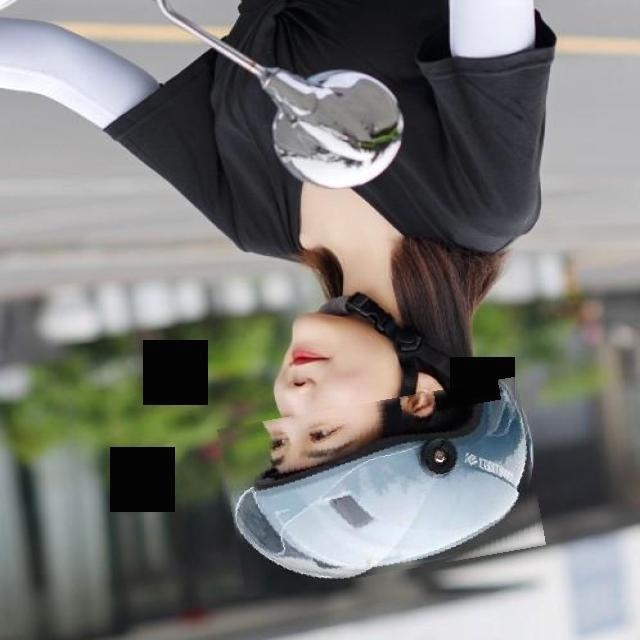helmet: (224, 390, 540, 586)
